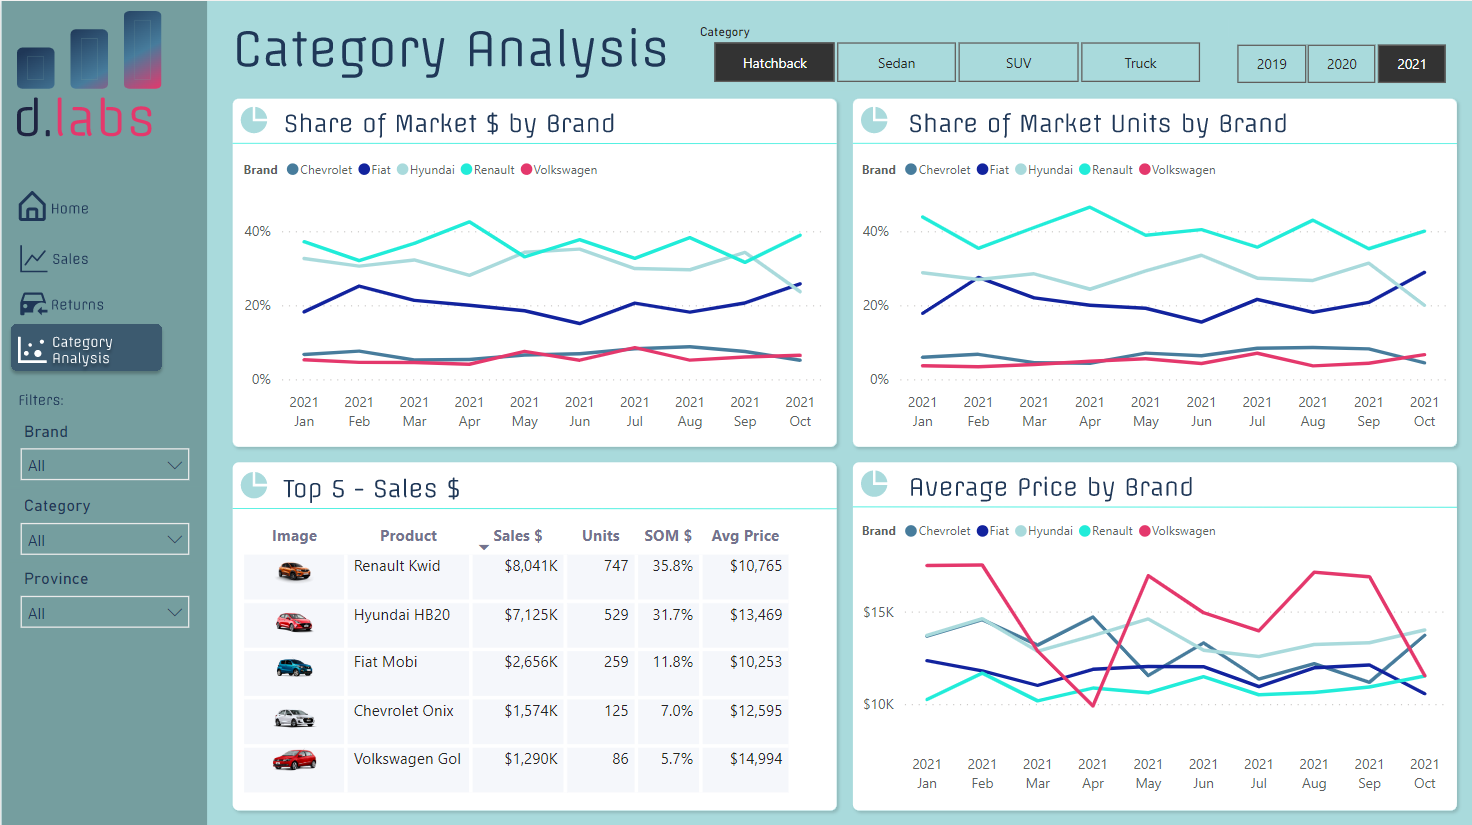

The page's visual inventory and layout, read from the dashboard file:
{"tool":"powerbi","page":{"name":"Category Analysis","canvas":[1280,720],"ordinal":3},"visuals":[{"type":"slicer","fields":{"Values":["dProdutos.Category"]},"box":[595,15,472,63],"z":0},{"type":"slicer","title":"SlicerY","fields":{"Values":["dCalendar.Year"]},"box":[1049,31,231,47],"z":1000},{"type":"lineChart","fields":{"Series":["dProdutos.Brand"],"Category":["dCalendar.Year Month"],"Y":["Measures (2).SOM $"]},"box":[206,127,516,255],"z":2000},{"type":"lineChart","fields":{"Series":["dProdutos.Brand"],"Category":["dCalendar.Year Month"],"Y":["Measures (2).SOM U"]},"box":[743,127,522,255],"z":3000},{"type":"tableEx","fields":{"Values":["dProdutos.ImagemProduto","dProdutos.NomeProduto","Measures (2).Sales $","Measures (2).Units","Measures (2).SOM $","Measures (2).Average Price"]},"box":[206,449,502,247],"z":4000},{"type":"lineChart","fields":{"Series":["dProdutos.Brand"],"Category":["dCalendar.Year Month"],"Y":["Measures (2).Average Price"]},"box":[743,441,522,255],"z":5000},{"type":"actionButton","box":[11.8,202.7,80,40],"z":6000},{"type":"actionButton","box":[11.8,158.2,80,40],"z":7000},{"type":"actionButton","box":[11.8,247.3,80,33.6],"z":8000},{"type":"slicer","fields":{"Values":["dProdutos.Brand"]},"box":[7.2,359.6,167,62],"z":9000},{"type":"slicer","fields":{"Values":["dProdutos.Category"]},"box":[7.2,424.6,167,61],"z":10000},{"type":"slicer","fields":{"Values":["dClientes.Province"]},"box":[7.2,488.6,167,61],"z":11000}]}

Visuals, with their boxes on the page's 1280x720 design canvas (x1, y1, x2, y2). These are canvas units, not pixel positions in the 1472x825 screenshot, which may show the page scaled, cropped or inside an application window:
slicer - dProdutos.Category: rect(595, 15, 1067, 78)
"SlicerY" slicer: rect(1049, 31, 1280, 78)
lineChart - dProdutos.Brand x dCalendar.Year Month: rect(206, 127, 722, 382)
lineChart - dProdutos.Brand x dCalendar.Year Month: rect(743, 127, 1265, 382)
tableEx - dProdutos.ImagemProduto x dProdutos.NomeProduto: rect(206, 449, 708, 696)
lineChart - dProdutos.Brand x dCalendar.Year Month: rect(743, 441, 1265, 696)
actionButton: rect(12, 203, 92, 243)
actionButton: rect(12, 158, 92, 198)
actionButton: rect(12, 247, 92, 281)
slicer - dProdutos.Brand: rect(7, 360, 174, 422)
slicer - dProdutos.Category: rect(7, 425, 174, 486)
slicer - dClientes.Province: rect(7, 489, 174, 550)
